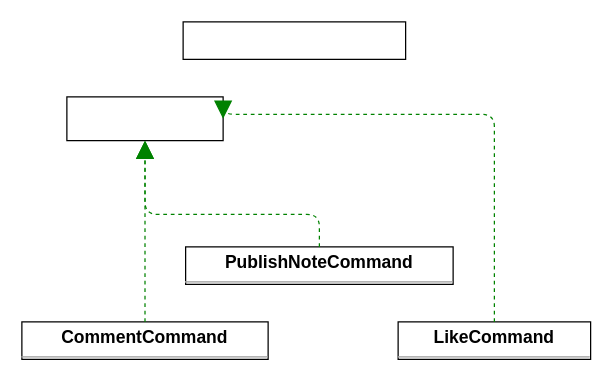
This 613x381 diagram has some shape labels left out. The centre of each missing label's shape, as x and y in pixels:
<<interface>> Command: (x=144, y=118)
CommandService: (x=294, y=40)
